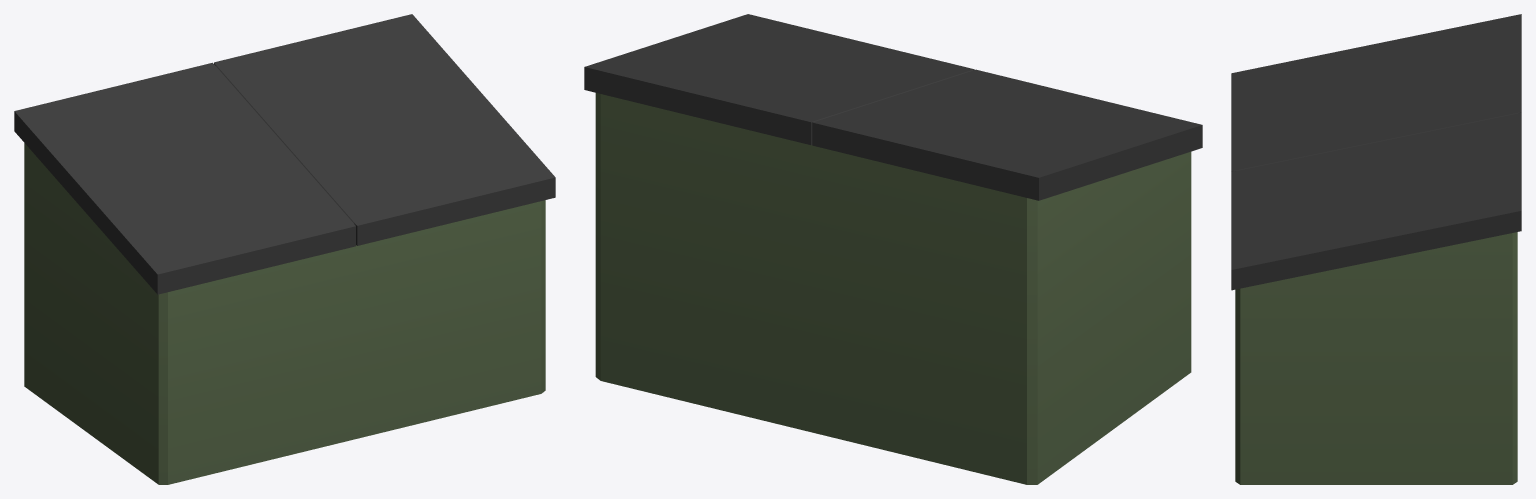
Rendered from Trash_02.glb.
3 views of the same model, side by side, from view 1: azimuth 30°, elevation 25°; view 2: azimuth 150°, elevation 25°; view 3: azimuth 270°, elevation 25° (orthographic). The views are drawn at different scales.
Parts seen in each view (by area): view 1: Trash_02; view 2: Trash_02; view 3: Trash_02.
Part boxes in pixels (box(x1,y1,x2,y2)): Trash_02: box(14, 14, 555, 484); Trash_02: box(584, 14, 1202, 484); Trash_02: box(1231, 14, 1521, 484).
Bounding box in the file's own units: 1.64 × 1.08 × 1.02.
Materials: 1 (1 with a texture image).
